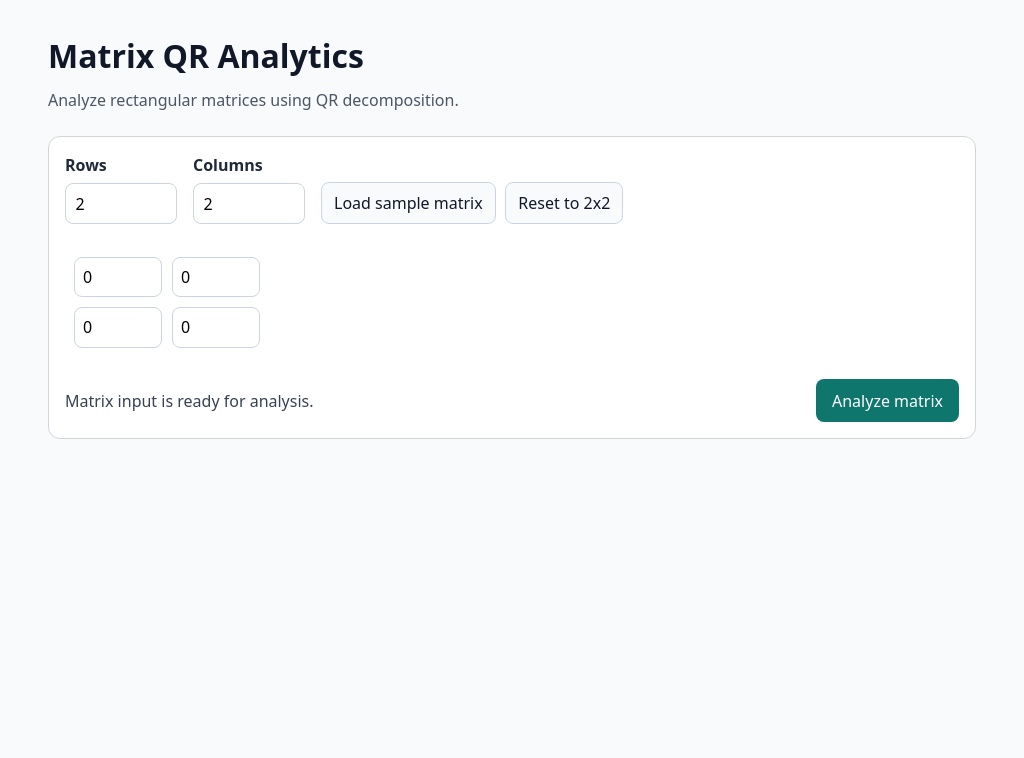
Scenario: App › clears stale results when matrix input changes
Click the button "Analyze matrix" at point(888, 400), box [816,379,959,422]
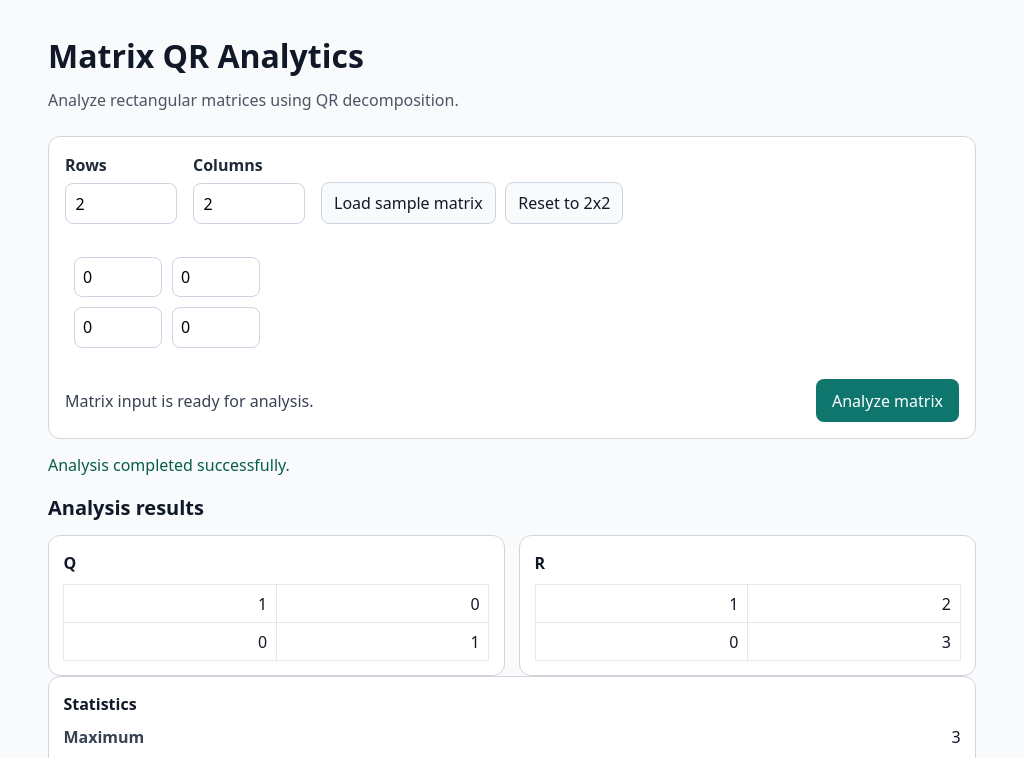
Check: the heading "Analysis results" is shown, box [48,494,204,522]
Replace the text in the 1st field named "Cell row 1, column 1" with "9" at point(118, 277), box [74,257,162,297]
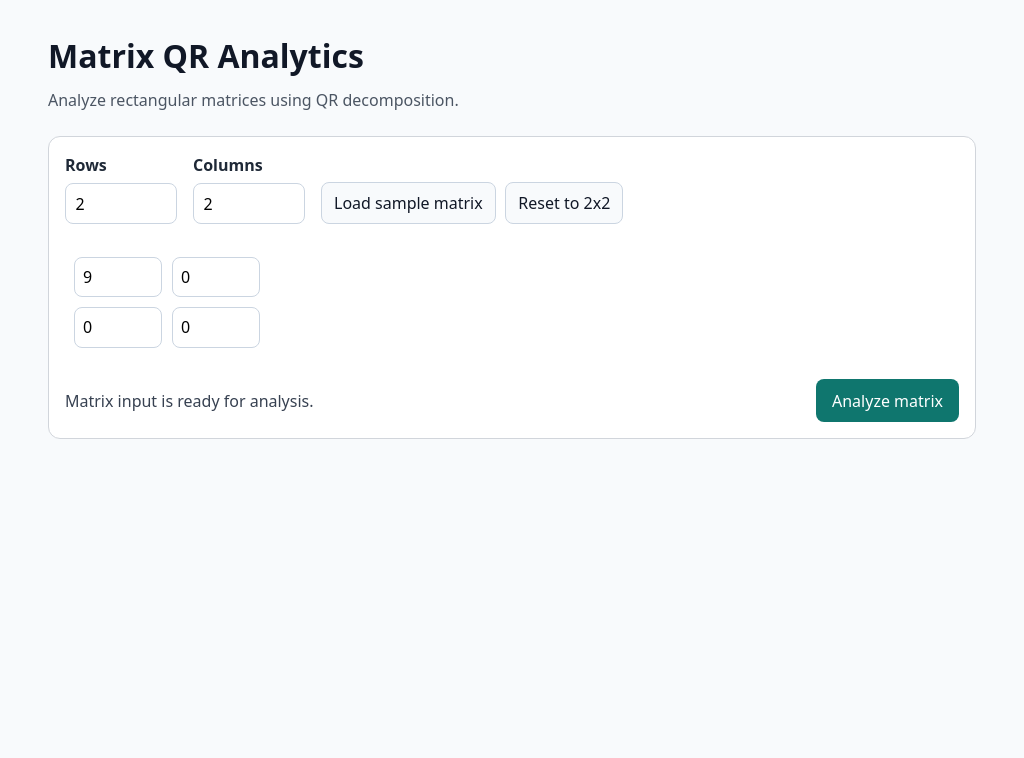
Check: the heading "Analysis results" is gone
Check: the text "Analysis completed successfully." is gone
